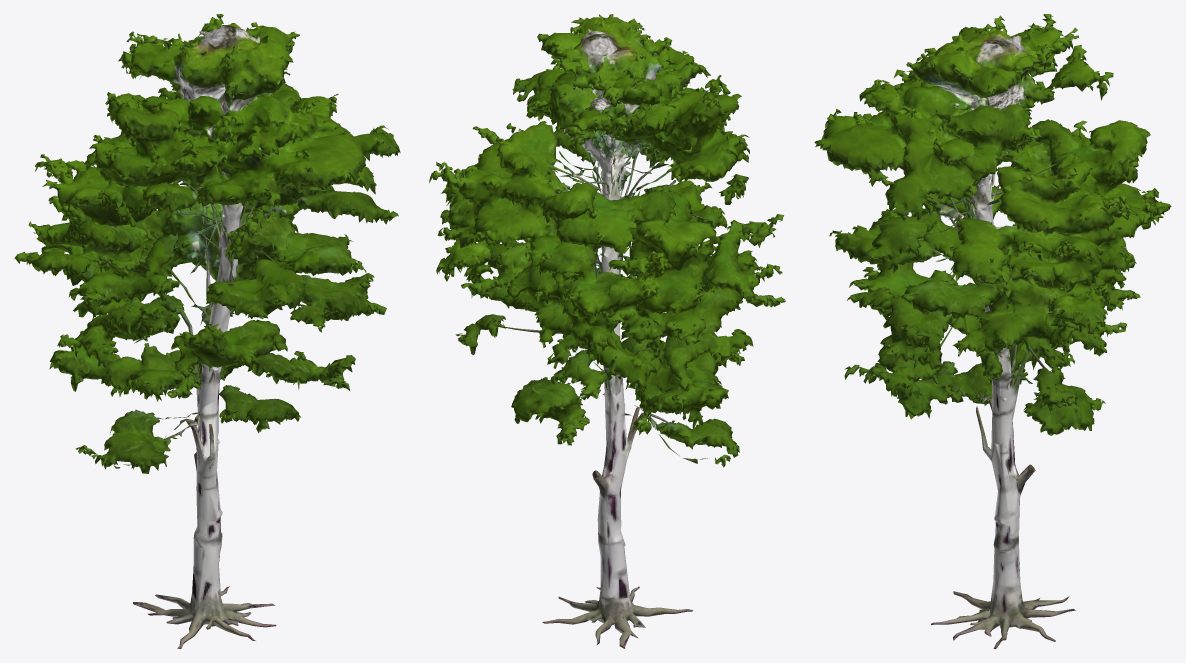
Rendered from airy-silver-birch-r1_semantic.glb.
3 views of the same model, side by side, from view 1: azimuth 30°, elevation 25°; view 2: azimuth 150°, elevation 25°; view 3: azimuth 270°, elevation 25° (orthographic). The views are drawn at different scales.
Parts seen in each view (by area): view 1: Mesh_0; view 2: Mesh_0; view 3: Mesh_0.
Boxes of the visible parts, x1,y1,x2,y2 form: Mesh_0: (14,14,400,648); Mesh_0: (429,14,785,648); Mesh_0: (814,14,1171,648).
Size of the model in its own units: 8 by 14.42 by 7.89.
Materials: 2 (2 with a texture image).
